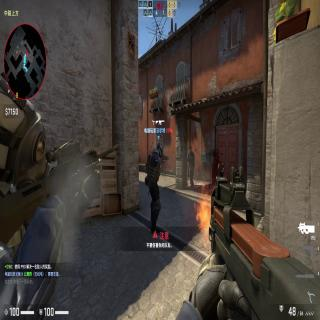CT-Head: (156, 142, 164, 156)
T-Body: (187, 146, 195, 186)
T-Head: (188, 146, 192, 153)
